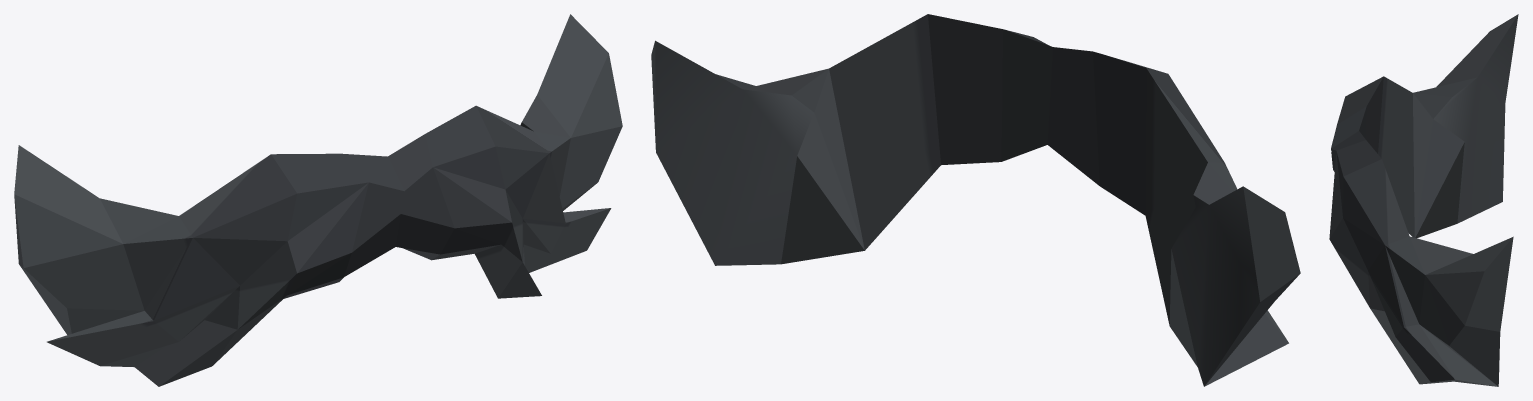
File: SM_Chr_Attach_Beard_06.fbx
3 renders of one model, left to right at view 1: azimuth 30°, elevation 25°; view 2: azimuth 150°, elevation 25°; view 3: azimuth 270°, elevation 25°, orthographic. The views are drawn at different scales.
Parts seen in each view (by area): view 1: SM_Chr_Attach_Beard_06; view 2: SM_Chr_Attach_Beard_06; view 3: SM_Chr_Attach_Beard_06.
Part boxes in pixels (left/top/right/bottom): SM_Chr_Attach_Beard_06: left=14, top=14, right=622, bottom=386; SM_Chr_Attach_Beard_06: left=651, top=14, right=1300, bottom=386; SM_Chr_Attach_Beard_06: left=1329, top=14, right=1518, bottom=386.
Bounding box in the file's own units: 21.92 × 8.05 × 7.27.
